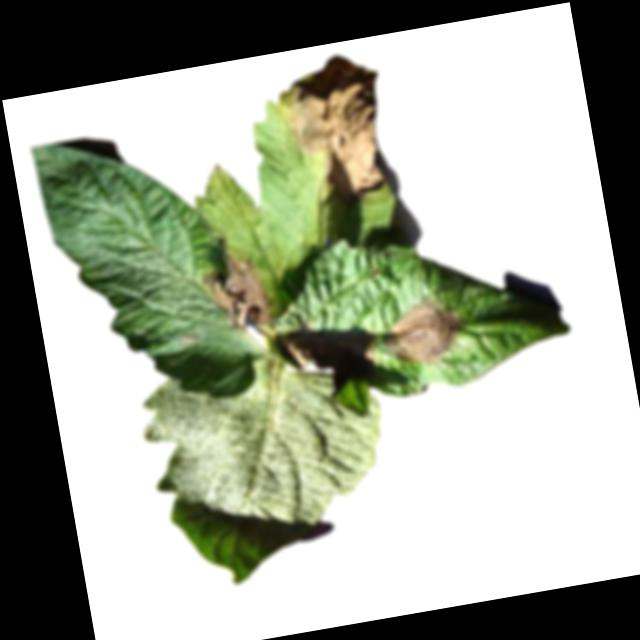Late_blight: (266, 47, 399, 210), (376, 291, 472, 371), (196, 246, 276, 337), (290, 338, 314, 372), (362, 338, 380, 360)
